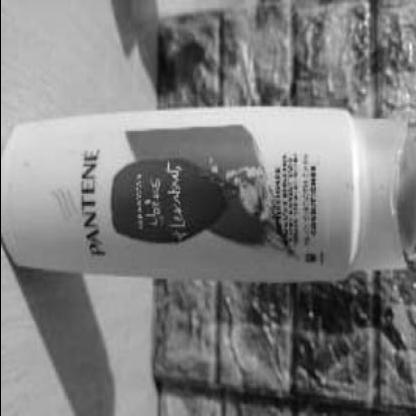objects: (3, 97, 416, 287)
